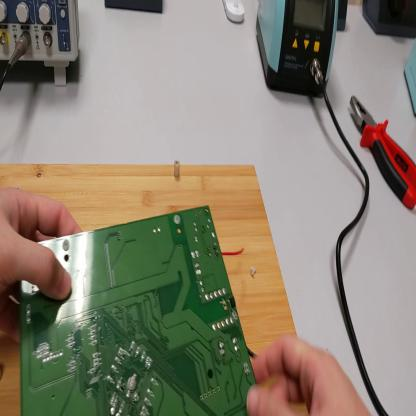hand: (1, 186, 83, 378), (249, 331, 368, 416)
low voltage board: (22, 205, 261, 416)
oscilloscope: (3, 2, 82, 86)
pliers: (351, 93, 415, 210)
socket: (362, 3, 415, 40), (338, 1, 348, 29)
welder base: (404, 44, 414, 121)
welder station: (257, 1, 339, 97)
working area: (3, 165, 296, 416)
